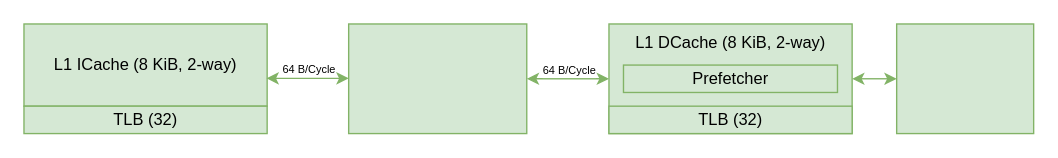
This 1058x158 diagram has some shape labels left out. Each missing label, with the centre of its shape:
StoreBuffer (8): the point at 964,78
Unified L2 Cache (64 KiB): the point at 437,78
